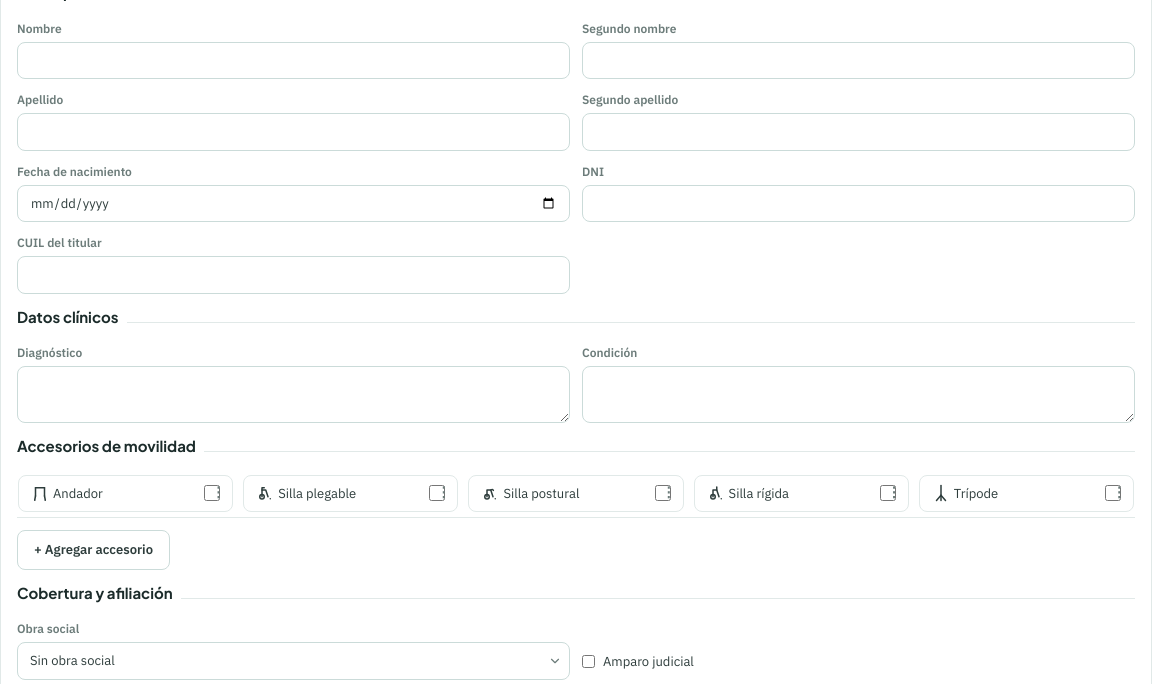
Test: PacienteForm › marcar amparo judicial revela el campo de aclaración
Expected: the field labelled "aclaración" is not shown
Step 1. Click the checkbox labelled "Amparo judicial" → (588, 662), box [582, 655, 595, 668]
(page scrolled)
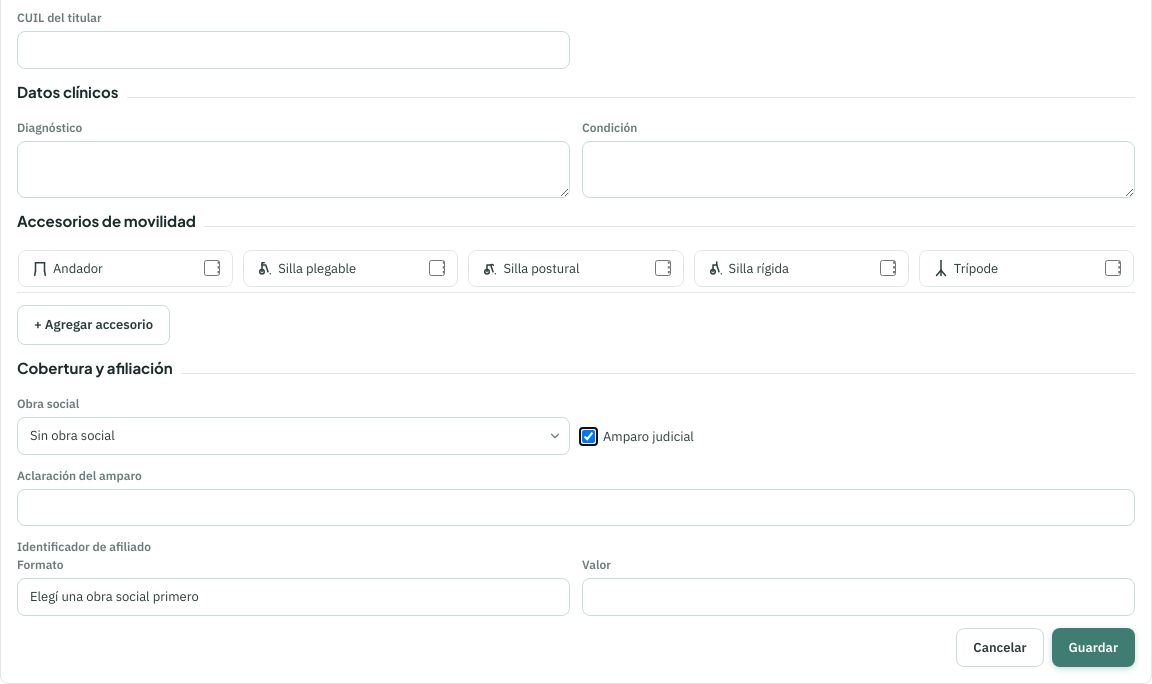
Expected: the field labelled "Aclaración del amparo" is shown, [17, 488, 1135, 526]
